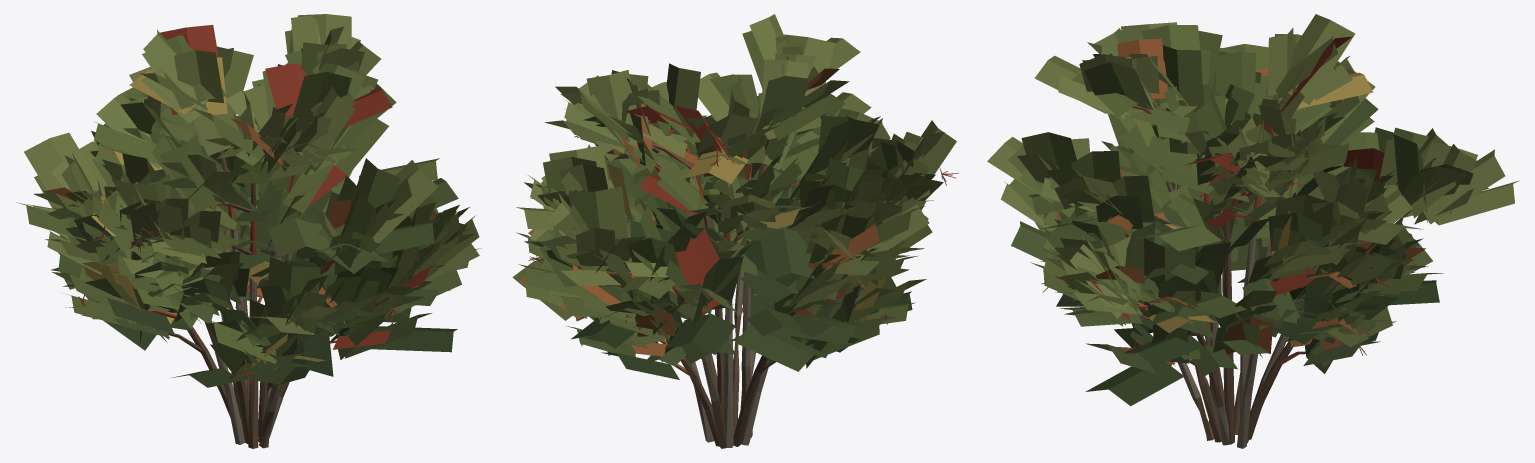
The model's file is berry-bush.glb.
3 renders of one model, left to right at view 1: azimuth 30°, elevation 25°; view 2: azimuth 150°, elevation 25°; view 3: azimuth 270°, elevation 25°, orthographic. The views are drawn at different scales.
Visible parts, largest first — view 1: berry-bush-leaves, berry-bush; view 2: berry-bush-leaves, berry-bush; view 3: berry-bush-leaves, berry-bush.
Part boxes in pixels (box(x1,y1,x2,y2)): berry-bush-leaves: box(16, 14, 480, 391); berry-bush: box(78, 150, 409, 448); berry-bush-leaves: box(512, 14, 956, 379); berry-bush: box(528, 136, 958, 448); berry-bush-leaves: box(987, 14, 1519, 406); berry-bush: box(1041, 67, 1412, 448).
Bounding box in the file's own units: 1.18 × 1.12 × 1.37.
